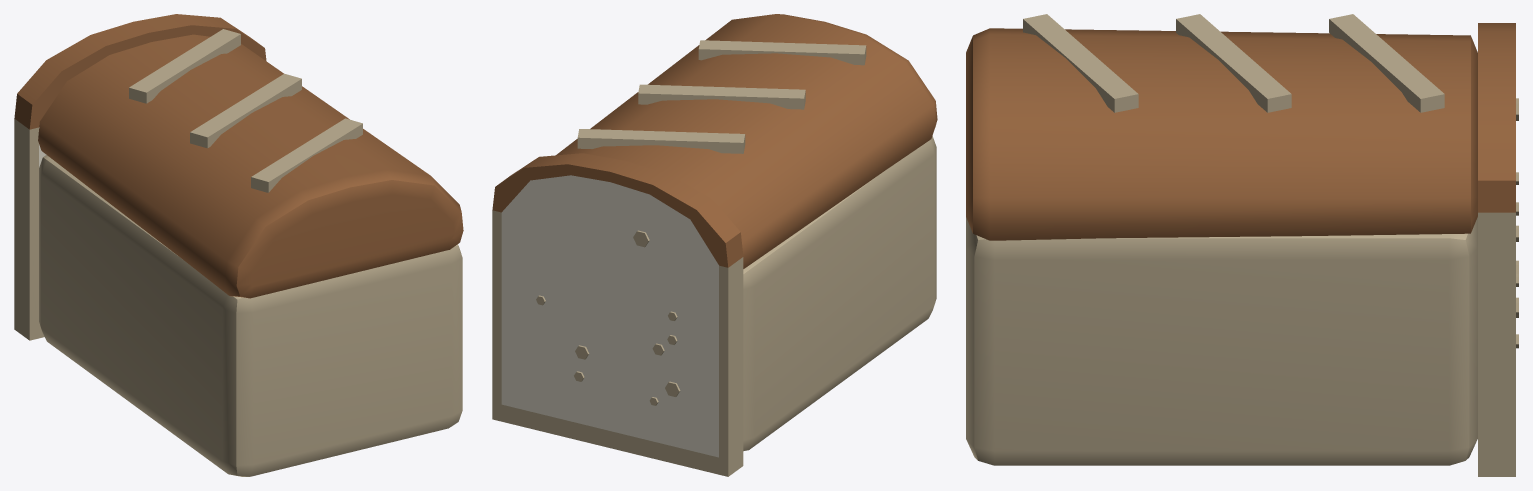
File: cook_bread.glb
3 renders of one model, left to right at view 1: azimuth 30°, elevation 25°; view 2: azimuth 150°, elevation 25°; view 3: azimuth 270°, elevation 25°, orthographic. The views are drawn at different scales.
Parts seen in each view (by area): view 1: body; view 2: body; view 3: body.
Boxes of the visible parts, <box> form: body: <box>14,14,463,476</box>; body: <box>492,14,937,476</box>; body: <box>966,14,1518,476</box>.
Bounding box in the file's own units: 0.036 × 0.0403 × 0.0578.
